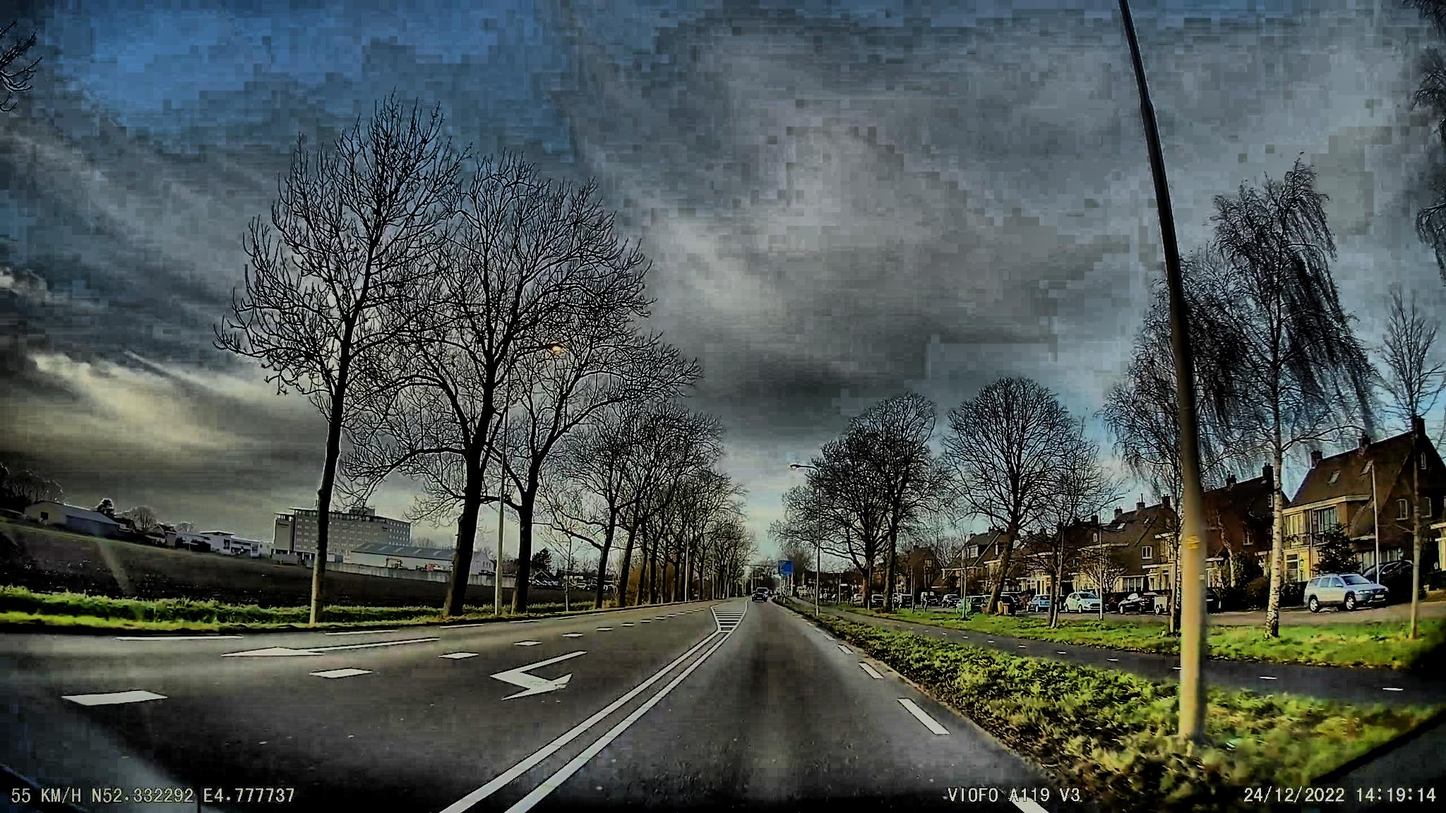Roads: (0, 600, 1110, 813)
